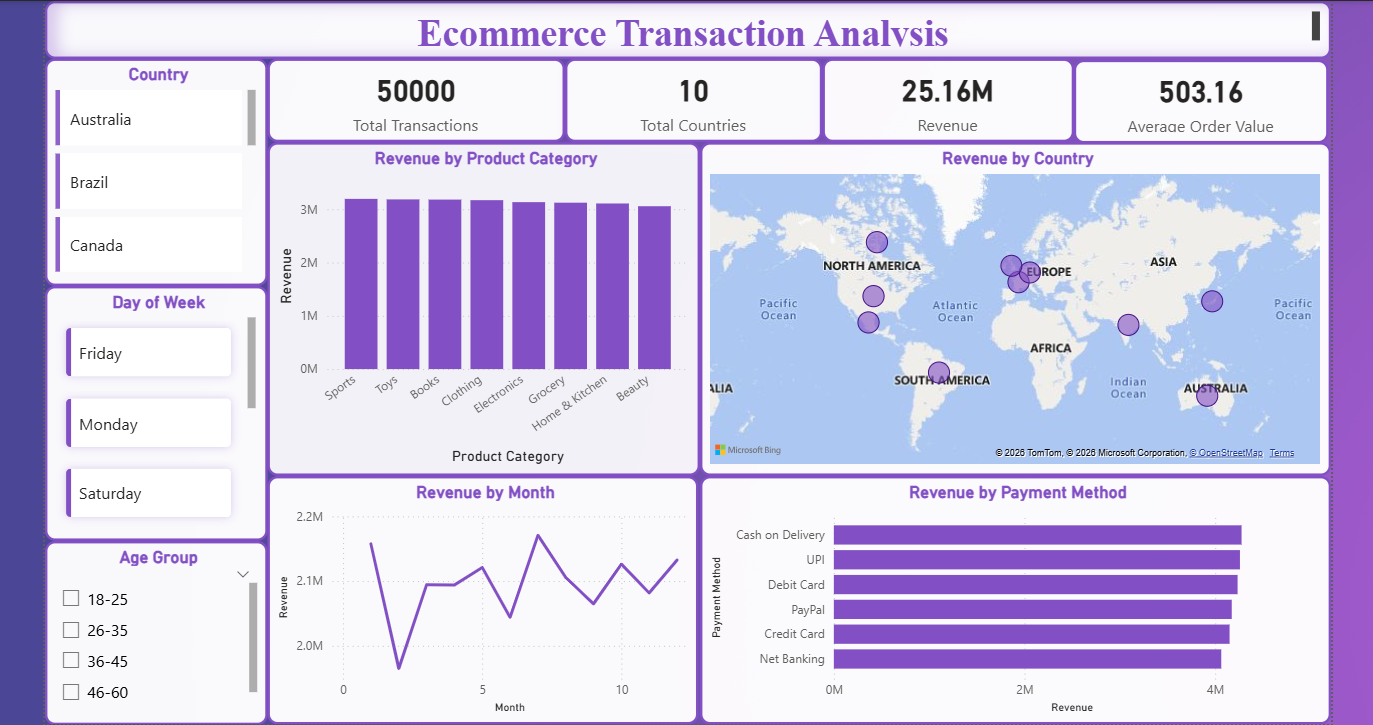

This screenshot's page, from the dashboard's own definition file:
{"tool":"powerbi","page":{"name":"Page 1","canvas":[1280,720],"ordinal":0},"visuals":[{"type":"card","fields":{"Values":["Count(ecommerce transactions.Transaction_ID)"]},"box":[221.4,57.2,296.1,83.3],"z":0},{"type":"card","fields":{"Values":["Count(ecommerce transactions.Country)"]},"box":[517.5,57.2,256.3,83.3],"z":1000},{"type":"card","fields":{"Values":["Sum(ecommerce transactions.Purchase_Amount)"]},"box":[773.7,57.2,250,83.3],"z":2000},{"type":"map","title":"Revenue by Country","fields":{"Category":["ecommerce transactions.Country"],"Size":["Sum(ecommerce transactions.Purchase_Amount)"]},"box":[651.8,140.6,628.2,332.1],"z":3000},{"type":"barChart","fields":{"Category":["ecommerce transactions.Payment_Method"],"Y":["Sum(ecommerce transactions.Purchase_Amount)"]},"box":[651.8,472.7,628.2,247.5],"z":4000},{"type":"columnChart","fields":{"Category":["ecommerce transactions.Product_Category"],"Y":["Sum(ecommerce transactions.Purchase_Amount)"]},"box":[221.4,140.6,430.4,332.1],"z":5000},{"type":"advancedSlicerVisual","fields":{"Values":["ecommerce transactions.Country"]},"box":[0,57.2,221.4,226.4],"z":6000},{"type":"advancedSlicerVisual","title":"Day of Week","fields":{"Values":["ecommerce transactions.Day_of_Week"]},"box":[0,283.6,221.4,253.8],"z":7000},{"type":"slicer","title":"Age Group","fields":{"Values":["ecommerce transactions.Age_Group"]},"box":[0,537.4,221.4,182.9],"z":8000},{"type":"lineChart","fields":{"Y":["Sum(ecommerce transactions.Purchase_Amount)"],"Category":["ecommerce transactions.Month"]},"box":[221.4,472.7,429.2,247.5],"z":9000},{"type":"card","fields":{"Values":["Avg(ecommerce transactions.Purchase_Amount)"]},"box":[1023.8,58.5,253.8,83.3],"z":10000},{"type":"textbox","box":[0,0,1280,57.2],"z":11000}]}

Visuals, with their boxes in screenshot pixels (x1, y1, x2, y2):
card - Count(ecommerce transactions.Transaction_ID): 263:57:557:140
card - Count(ecommerce transactions.Country): 557:57:812:140
card - Sum(ecommerce transactions.Purchase_Amount): 812:57:1061:140
"Revenue by Country" map: 691:140:1315:470
barChart - ecommerce transactions.Payment_Method x Sum(ecommerce transactions.Purchase_Amount): 691:470:1315:716
columnChart - ecommerce transactions.Product_Category x Sum(ecommerce transactions.Purchase_Amount): 263:140:691:470
advancedSlicerVisual - ecommerce transactions.Country: 43:57:263:282
"Day of Week" advancedSlicerVisual: 43:282:263:534
"Age Group" slicer: 43:534:263:716
lineChart - Sum(ecommerce transactions.Purchase_Amount) x ecommerce transactions.Month: 263:470:690:716
card - Avg(ecommerce transactions.Purchase_Amount): 1061:58:1313:141
textbox: 43:0:1315:57
